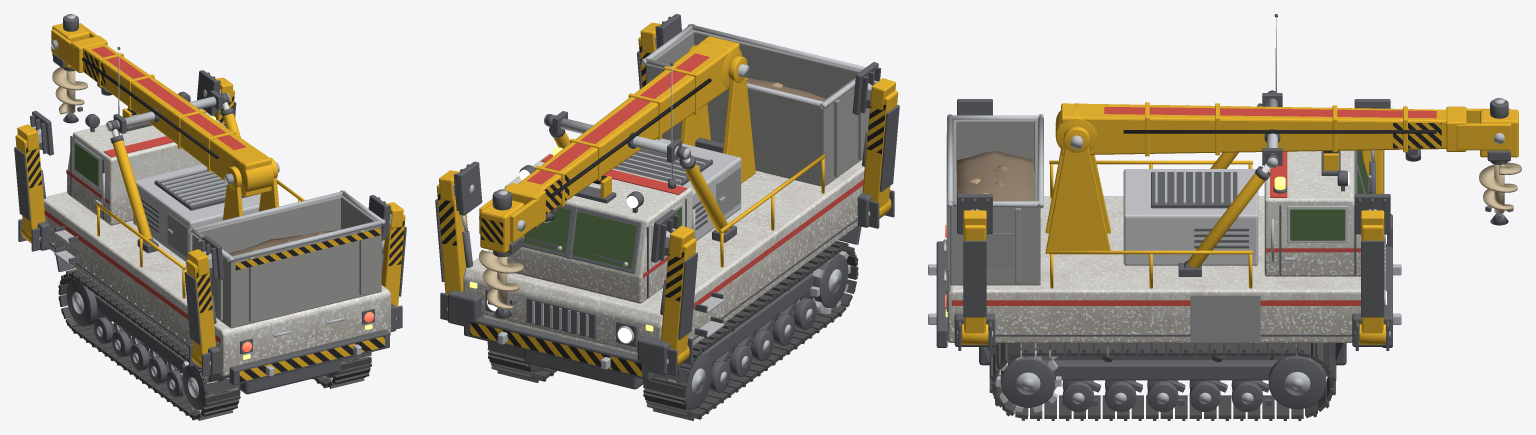
The model's file is mining_crawler.glb.
3 views of the same model, side by side, from view 1: azimuth 30°, elevation 25°; view 2: azimuth 150°, elevation 25°; view 3: azimuth 270°, elevation 25° (orthographic). The views are drawn at different scales.
Parts seen in each view (by area): view 1: BodyMesh, BoomMesh, Leg2Mesh, Leg3Mesh, Leg1Mesh, RamLMesh, BitMesh, Leg3FootMesh, Leg2FootMesh, Leg1FootMesh, Leg0FootMesh, DrillMesh (+1 smaller); view 2: BodyMesh, BoomMesh, Leg2Mesh, Leg3Mesh, Leg0Mesh, DrillMesh, BitMesh, Leg0FootMesh, Leg2FootMesh, Leg3FootMesh, RamLMesh, Leg1FootMesh (+1 smaller); view 3: BodyMesh, BoomMesh, FillMesh, Leg0Mesh, Leg1Mesh, RamRMesh, BitMesh, DrillMesh, Leg0FootMesh, Leg1FootMesh, Leg2Mesh, Leg3FootMesh.
Part boxes in pixels (box(x1,y1,x2,y2)): BodyMesh: box(18, 47, 402, 420); BoomMesh: box(51, 23, 273, 196); Leg2Mesh: box(14, 135, 45, 242); Leg3Mesh: box(184, 259, 216, 367); Leg1Mesh: box(381, 214, 406, 306); RamLMesh: box(110, 135, 154, 243); BitMesh: box(52, 67, 87, 123); Leg3FootMesh: box(187, 235, 224, 280); Leg2FootMesh: box(17, 110, 53, 155); Leg1FootMesh: box(368, 195, 403, 240); Leg0FootMesh: box(197, 70, 233, 115); DrillMesh: box(52, 14, 89, 68); BodyMesh: box(440, 23, 894, 420); BoomMesh: box(479, 36, 742, 242); Leg2Mesh: box(660, 238, 697, 365); Leg3Mesh: box(862, 90, 899, 218); Leg0Mesh: box(435, 184, 472, 293); DrillMesh: box(480, 189, 524, 253); BitMesh: box(479, 250, 523, 318); Leg0FootMesh: box(439, 161, 482, 215); Leg2FootMesh: box(651, 209, 694, 262); Leg3FootMesh: box(852, 62, 895, 114); RamLMesh: box(679, 155, 731, 232); Leg1FootMesh: box(640, 14, 681, 53); BodyMesh: box(928, 14, 1401, 420); BoomMesh: box(1055, 90, 1510, 168); FillMesh: box(957, 150, 1033, 201); Leg0Mesh: box(1359, 225, 1385, 344); Leg1Mesh: box(961, 225, 988, 344); RamRMesh: box(1184, 166, 1270, 268); BitMesh: box(1479, 161, 1521, 225); DrillMesh: box(1480, 98, 1518, 161); Leg0FootMesh: box(1354, 194, 1390, 236); Leg1FootMesh: box(957, 194, 992, 236); Leg2Mesh: box(1361, 150, 1384, 193); Leg3FootMesh: box(957, 99, 992, 115).
Bounding box in the file's own units: 3.66 × 4.69 × 7.59.
21 materials, 2 textured.
